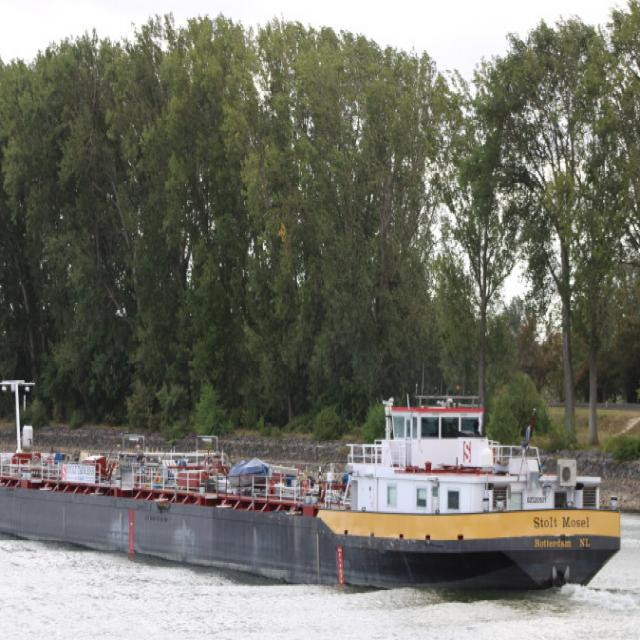tugboat: (1, 370, 628, 608)
